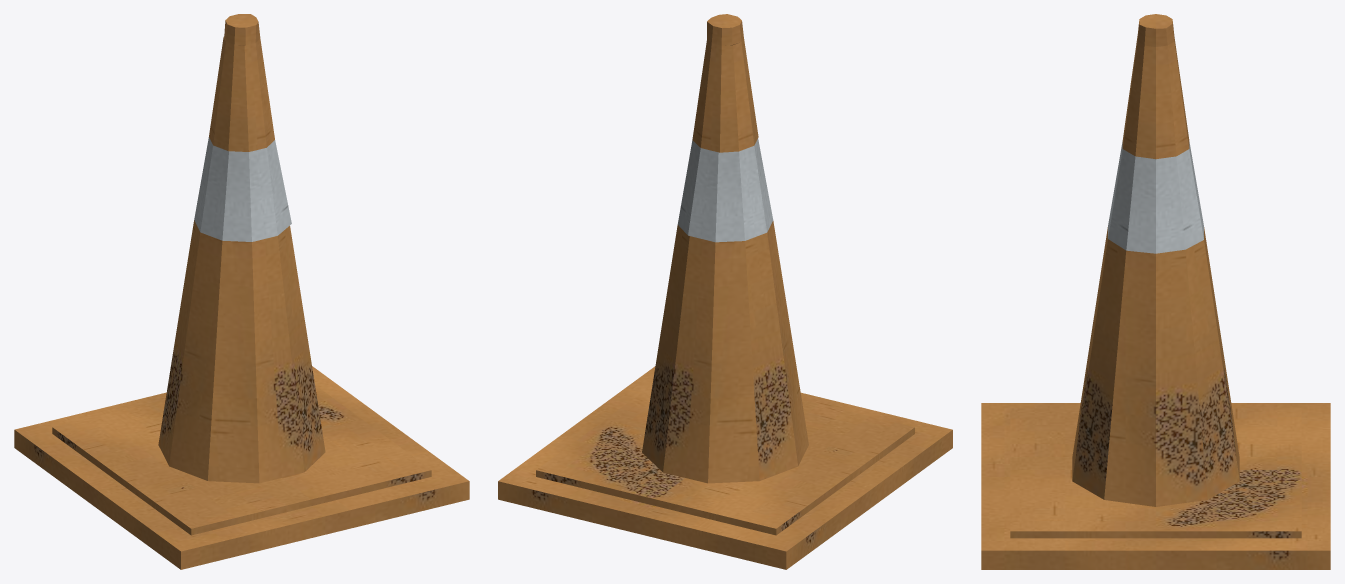
3 renders of one model, left to right at view 1: azimuth 30°, elevation 25°; view 2: azimuth 150°, elevation 25°; view 3: azimuth 270°, elevation 25°, orthographic. The views are drawn at different scales.
Parts seen in each view (by area): view 1: Variant_cone_4; view 2: Variant_cone_4; view 3: Variant_cone_4.
Part boxes in pixels (box(x1,y1,x2,y2)): Variant_cone_4: box(14, 14, 469, 569); Variant_cone_4: box(498, 14, 952, 569); Variant_cone_4: box(981, 14, 1330, 569).
Size of the model in its own units: 0.36 by 0.54 by 0.36.
Materials: 2 (2 with a texture image).
